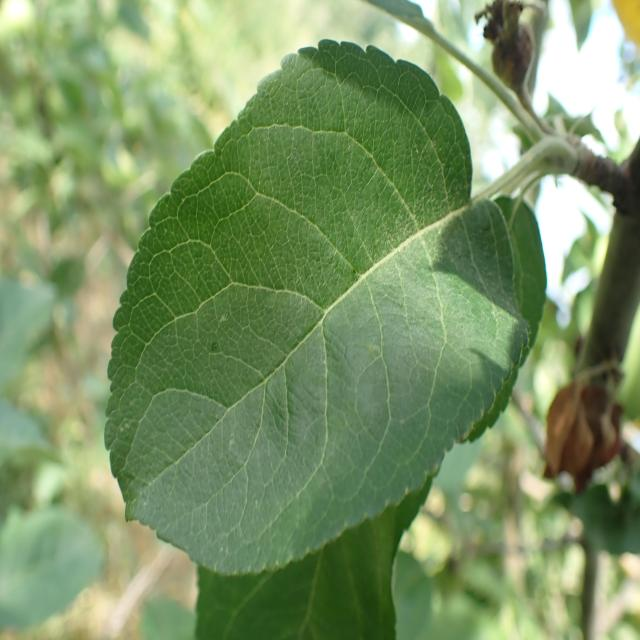healthy: (105, 37, 546, 577), (194, 462, 440, 640)
